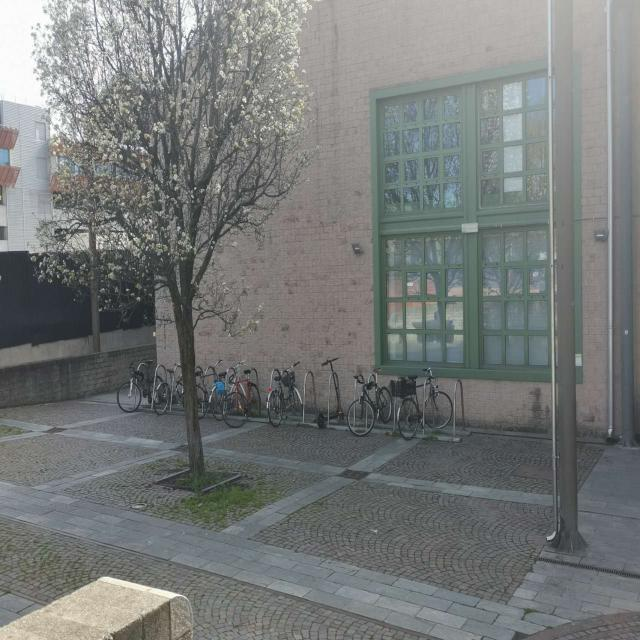Bicycle: (392, 364, 450, 446), (110, 354, 172, 416), (206, 347, 250, 432), (259, 362, 306, 428), (346, 367, 390, 433), (225, 359, 258, 430), (192, 356, 223, 422), (151, 360, 184, 420), (317, 355, 343, 431)
